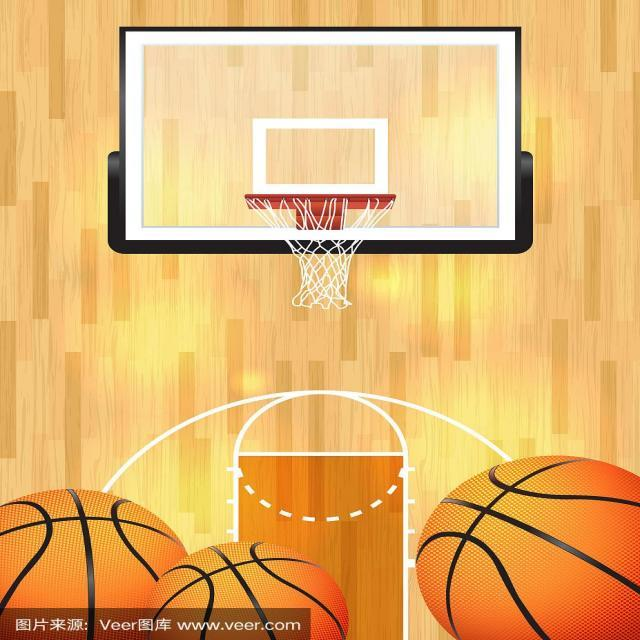rim: (416, 456, 640, 640), (0, 493, 190, 640), (147, 550, 355, 640)
